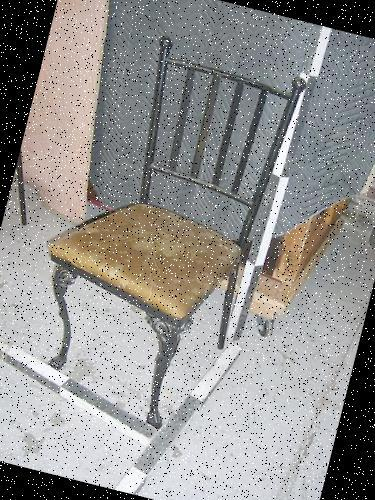Silla: (11, 26, 305, 439)
